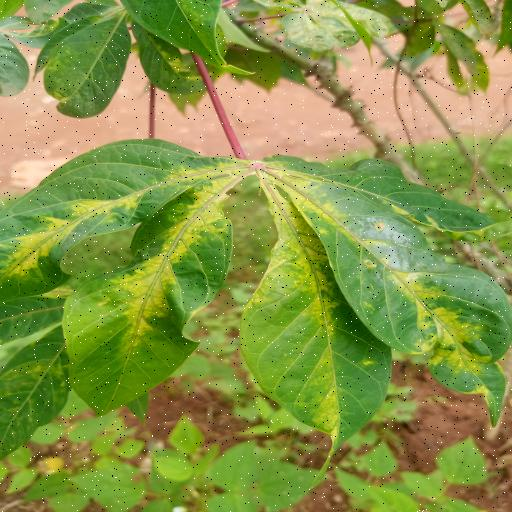Cassava_Mosaic: (2, 134, 512, 464)
